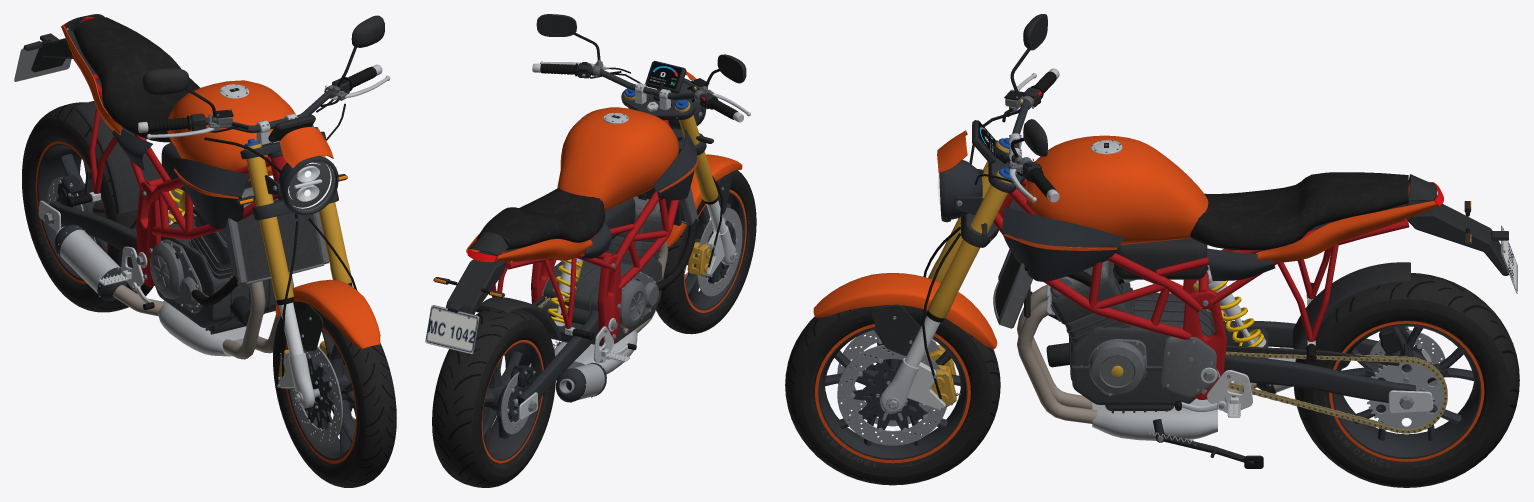
File: street-motorcycle.glb
3 renders of one model, left to right at view 1: azimuth 30°, elevation 25°; view 2: azimuth 150°, elevation 25°; view 3: azimuth 270°, elevation 25°, orthographic. The views are drawn at different scales.
Visible parts, largest first — view 1: Body, Fork, Wheel_Front, Wheel_Rear, Swingarm; view 2: Body, Wheel_Rear, Fork, Wheel_Front, Swingarm; view 3: Body, Wheel_Rear, Wheel_Front, Fork, Swingarm, Side_Stand.
Part boxes in pixels (x1,y1,x2,y2): Body: (14,14,329,359); Fork: (138,15,390,408); Wheel_Front: (273,301,396,487); Wheel_Rear: (22,102,153,312); Swingarm: (38,101,197,255); Body: (425,107,698,402); Wheel_Rear: (432,308,555,487); Fork: (532,14,750,277); Wheel_Front: (656,170,756,334); Swingarm: (479,296,599,420); Body: (993,135,1517,440); Wheel_Rear: (1294,273,1519,487); Wheel_Front: (785,305,1000,485); Fork: (813,14,1059,414); Swingarm: (1214,262,1447,433); Side_Stand: (1149,431,1263,468).
Bounding box in the file's own units: 0.8319 × 1.26 × 2.05.
Materials: 49 (10 with a texture image).
